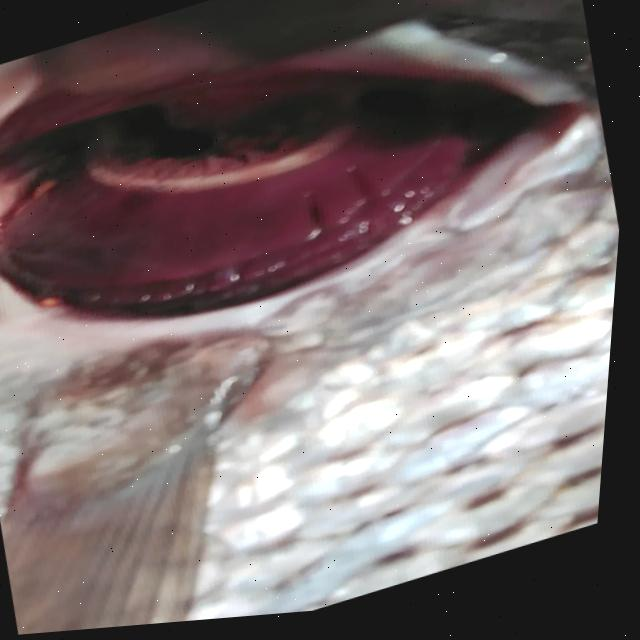Fresh: (0, 0, 590, 388)
